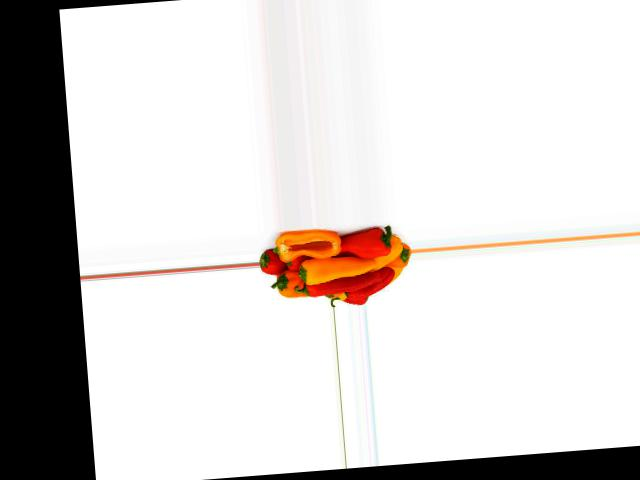bell_pepper: (258, 247, 303, 280)
